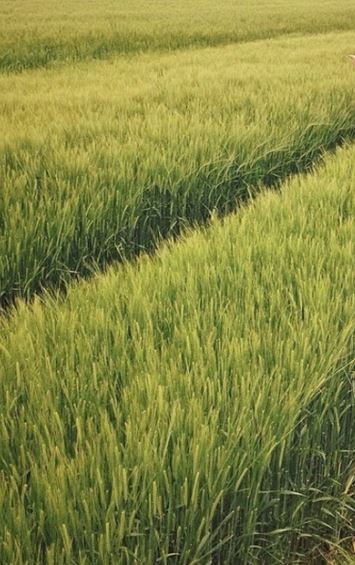Wheat: (56, 286, 329, 547)
